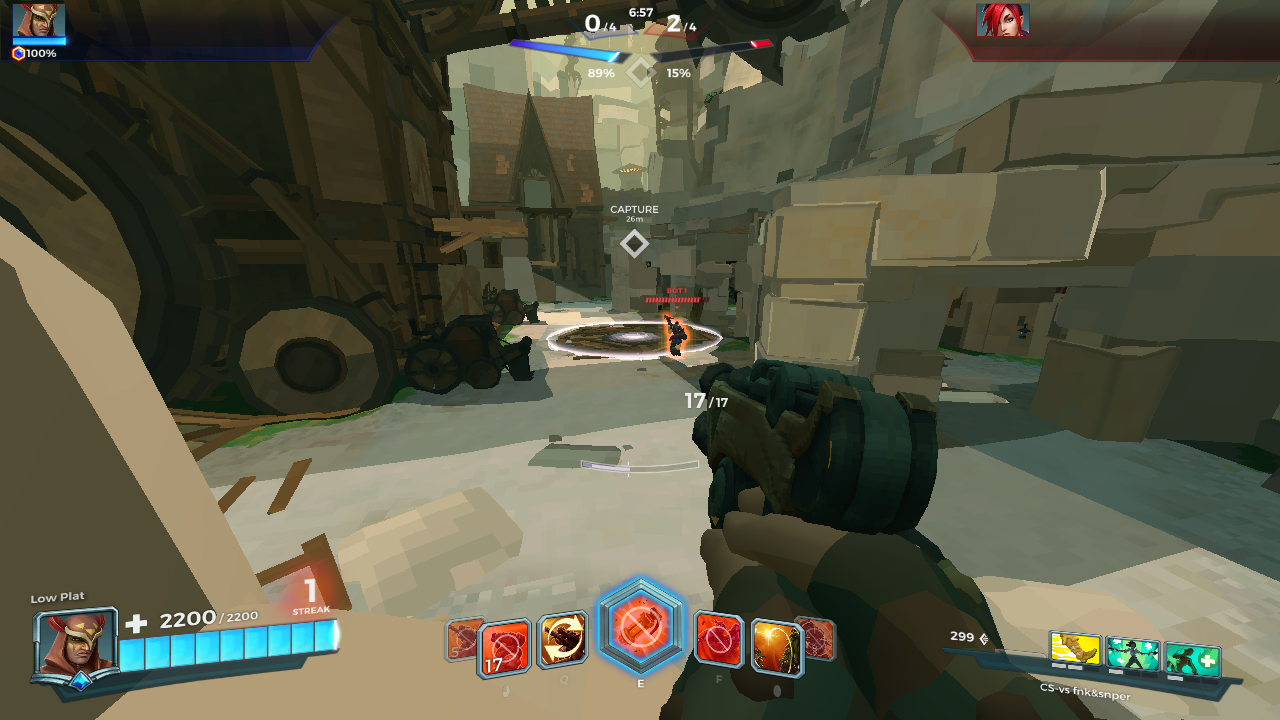model: (659, 311, 687, 363)
